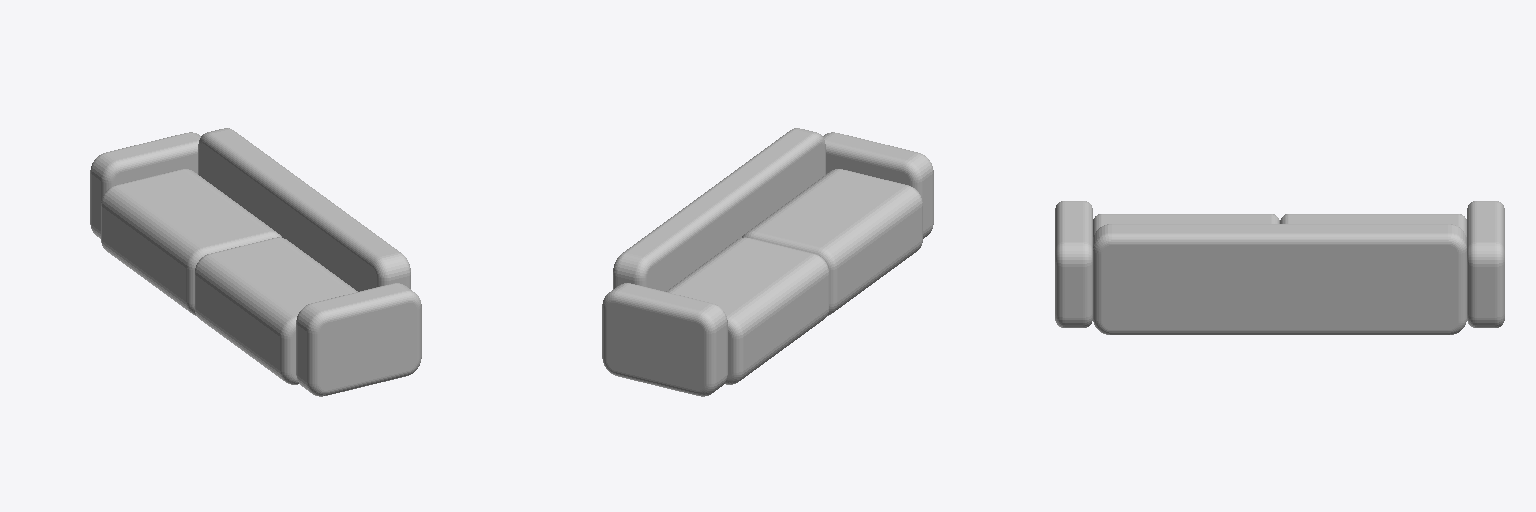
The model's file is sofa.obj.
3 renders of one model, left to right at view 1: azimuth 30°, elevation 25°; view 2: azimuth 150°, elevation 25°; view 3: azimuth 270°, elevation 25°, orthographic.
Visible parts, largest first — view 1: Mesh2 Componente_1_1 sofa1 Model, Mesh1 __1_1 sofa1 Model, Mesh4 Componente_1_2 sofa1 Model, Mesh5 _2 sofa1 Model, Mesh3 _1 sofa1 Model; view 2: Mesh4 Componente_1_2 sofa1 Model, Mesh1 __1_1 sofa1 Model, Mesh2 Componente_1_1 sofa1 Model, Mesh3 _1 sofa1 Model, Mesh5 _2 sofa1 Model; view 3: Mesh1 __1_1 sofa1 Model, Mesh3 _1 sofa1 Model, Mesh5 _2 sofa1 Model, Mesh2 Componente_1_1 sofa1 Model, Mesh4 Componente_1_2 sofa1 Model.
Part boxes in pixels (left/top/right/bottom): Mesh2 Componente_1_1 sofa1 Model: left=101, top=169, right=281, bottom=315; Mesh1 __1_1 sofa1 Model: left=198, top=128, right=410, bottom=291; Mesh4 Componente_1_2 sofa1 Model: left=195, top=237, right=357, bottom=384; Mesh5 _2 sofa1 Model: left=296, top=283, right=421, bottom=396; Mesh3 _1 sofa1 Model: left=90, top=132, right=200, bottom=238; Mesh4 Componente_1_2 sofa1 Model: left=742, top=169, right=922, bottom=315; Mesh1 __1_1 sofa1 Model: left=613, top=128, right=825, bottom=291; Mesh2 Componente_1_1 sofa1 Model: left=666, top=237, right=828, bottom=384; Mesh3 _1 sofa1 Model: left=602, top=283, right=727, bottom=396; Mesh5 _2 sofa1 Model: left=823, top=132, right=933, bottom=238; Mesh1 __1_1 sofa1 Model: left=1093, top=224, right=1466, bottom=334; Mesh3 _1 sofa1 Model: left=1467, top=201, right=1504, bottom=327; Mesh5 _2 sofa1 Model: left=1055, top=201, right=1092, bottom=327; Mesh2 Componente_1_1 sofa1 Model: left=1280, top=214, right=1466, bottom=236; Mesh4 Componente_1_2 sofa1 Model: left=1093, top=214, right=1279, bottom=236.
Size of the model in its own units: 0.8 by 0.6 by 2.4.